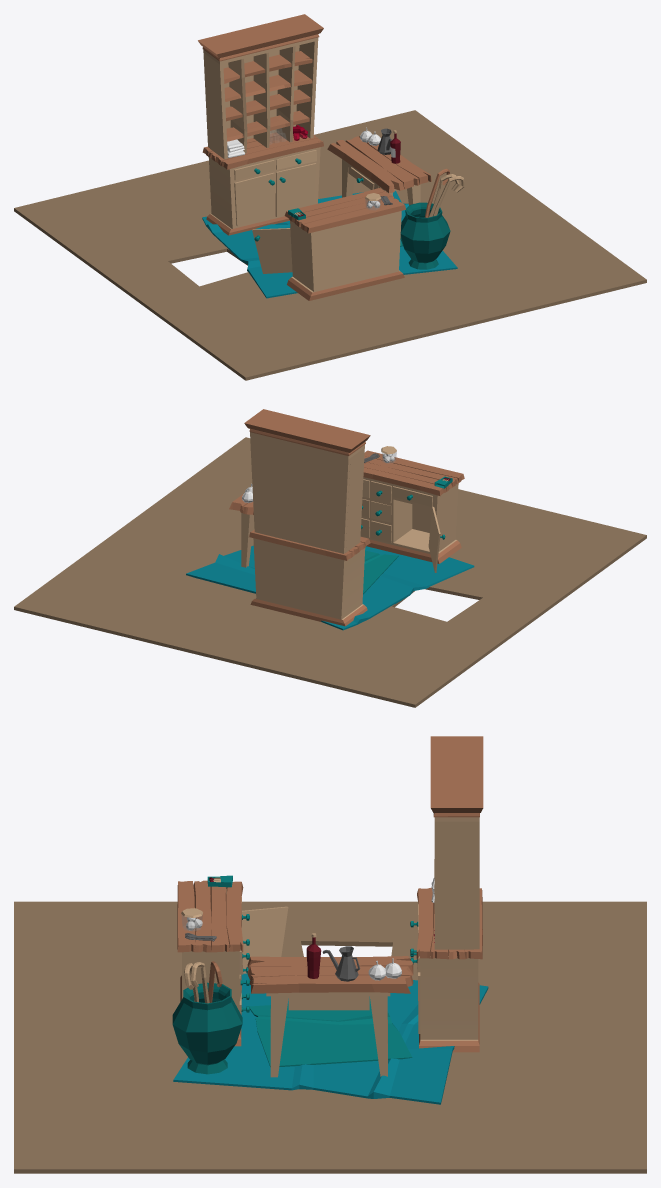
Rendered from FurnitureObjects.fbx.
The picture shows the model from 3 angles, top to bottom: view 1: azimuth 30°, elevation 25°; view 2: azimuth 150°, elevation 25°; view 3: azimuth 270°, elevation 25°; orthographic projection. The views are drawn at different scales.
Visible parts, largest first — view 1: floor, Cabinet01, Cabinet02, Table, Canes1, Carpet02; view 2: floor, Cabinet01, Cabinet02, Carpet02, Table, Carpet01; view 3: floor, Cabinet01, Carpet02, Table, Cabinet02, Carpet01, Canes1, Oil.
Boxes of the visible parts, x1,y1,x2,y2 form: floor: (14,110,646,380); Cabinet01: (198,14,323,235); Cabinet02: (252,187,405,300); Table: (327,136,431,205); Canes1: (400,168,464,269); Carpet02: (202,190,457,298); floor: (14,437,646,707); Cabinet01: (244,409,370,626); Cabinet02: (360,450,464,572); Carpet02: (186,545,474,630); Table: (229,494,253,567); Carpet01: (363,550,398,594); floor: (14,901,646,1173); Cabinet01: (410,736,483,1052); Carpet02: (173,973,488,1104); Table: (247,956,413,1077); Cabinet02: (177,880,288,1046); Carpet01: (249,999,412,1067); Canes1: (172,961,242,1074); Oil: (322,946,360,981).
Bounding box in the file's own units: 573 × 252 × 573.
